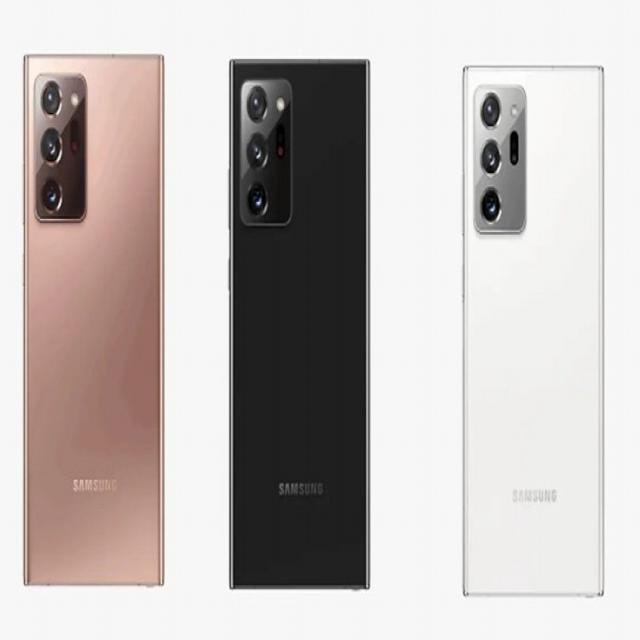phone: (23, 51, 164, 588), (463, 66, 605, 598), (230, 55, 371, 588)
